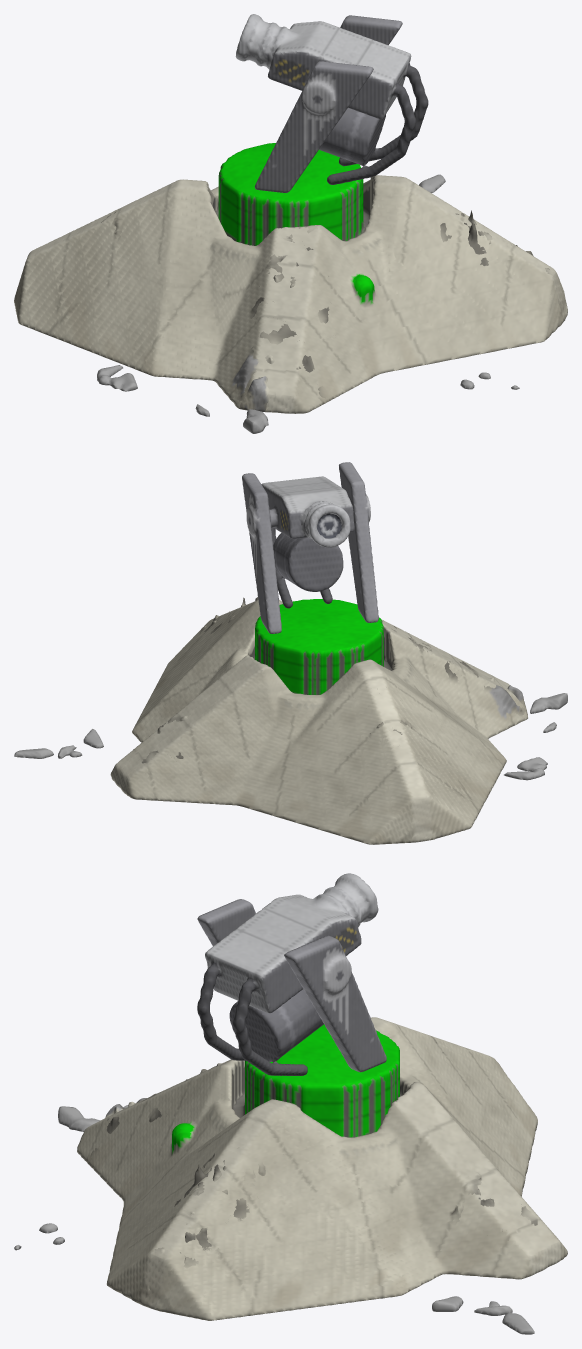
Rendered from pulse-cannon.glb.
The picture shows the model from 3 angles, top to bottom: view 1: azimuth 30°, elevation 25°; view 2: azimuth 150°, elevation 25°; view 3: azimuth 270°, elevation 25°; orthographic projection. The views are drawn at different scales.
Parts seen in each view (by area): view 1: pulse-cannon, head, pulse-cannon-damaged; view 2: pulse-cannon, head, pulse-cannon-damaged; view 3: pulse-cannon, head, pulse-cannon-damaged.
Part boxes in pixels (left/top/right/bottom): pulse-cannon: left=14, top=143, right=567, bottom=413; head: left=235, top=14, right=428, bottom=192; pulse-cannon-damaged: left=97, top=174, right=564, bottom=433; pulse-cannon: left=110, top=599, right=527, bottom=844; head: left=242, top=462, right=378, bottom=633; pulse-cannon-damaged: left=14, top=597, right=567, bottom=781; pulse-cannon: left=77, top=1017, right=567, bottom=1320; head: left=197, top=873, right=386, bottom=1075; pulse-cannon-damaged: left=14, top=1036, right=537, bottom=1334.
Bounding box in the file's own units: 1.83 × 1.08 × 1.71.
